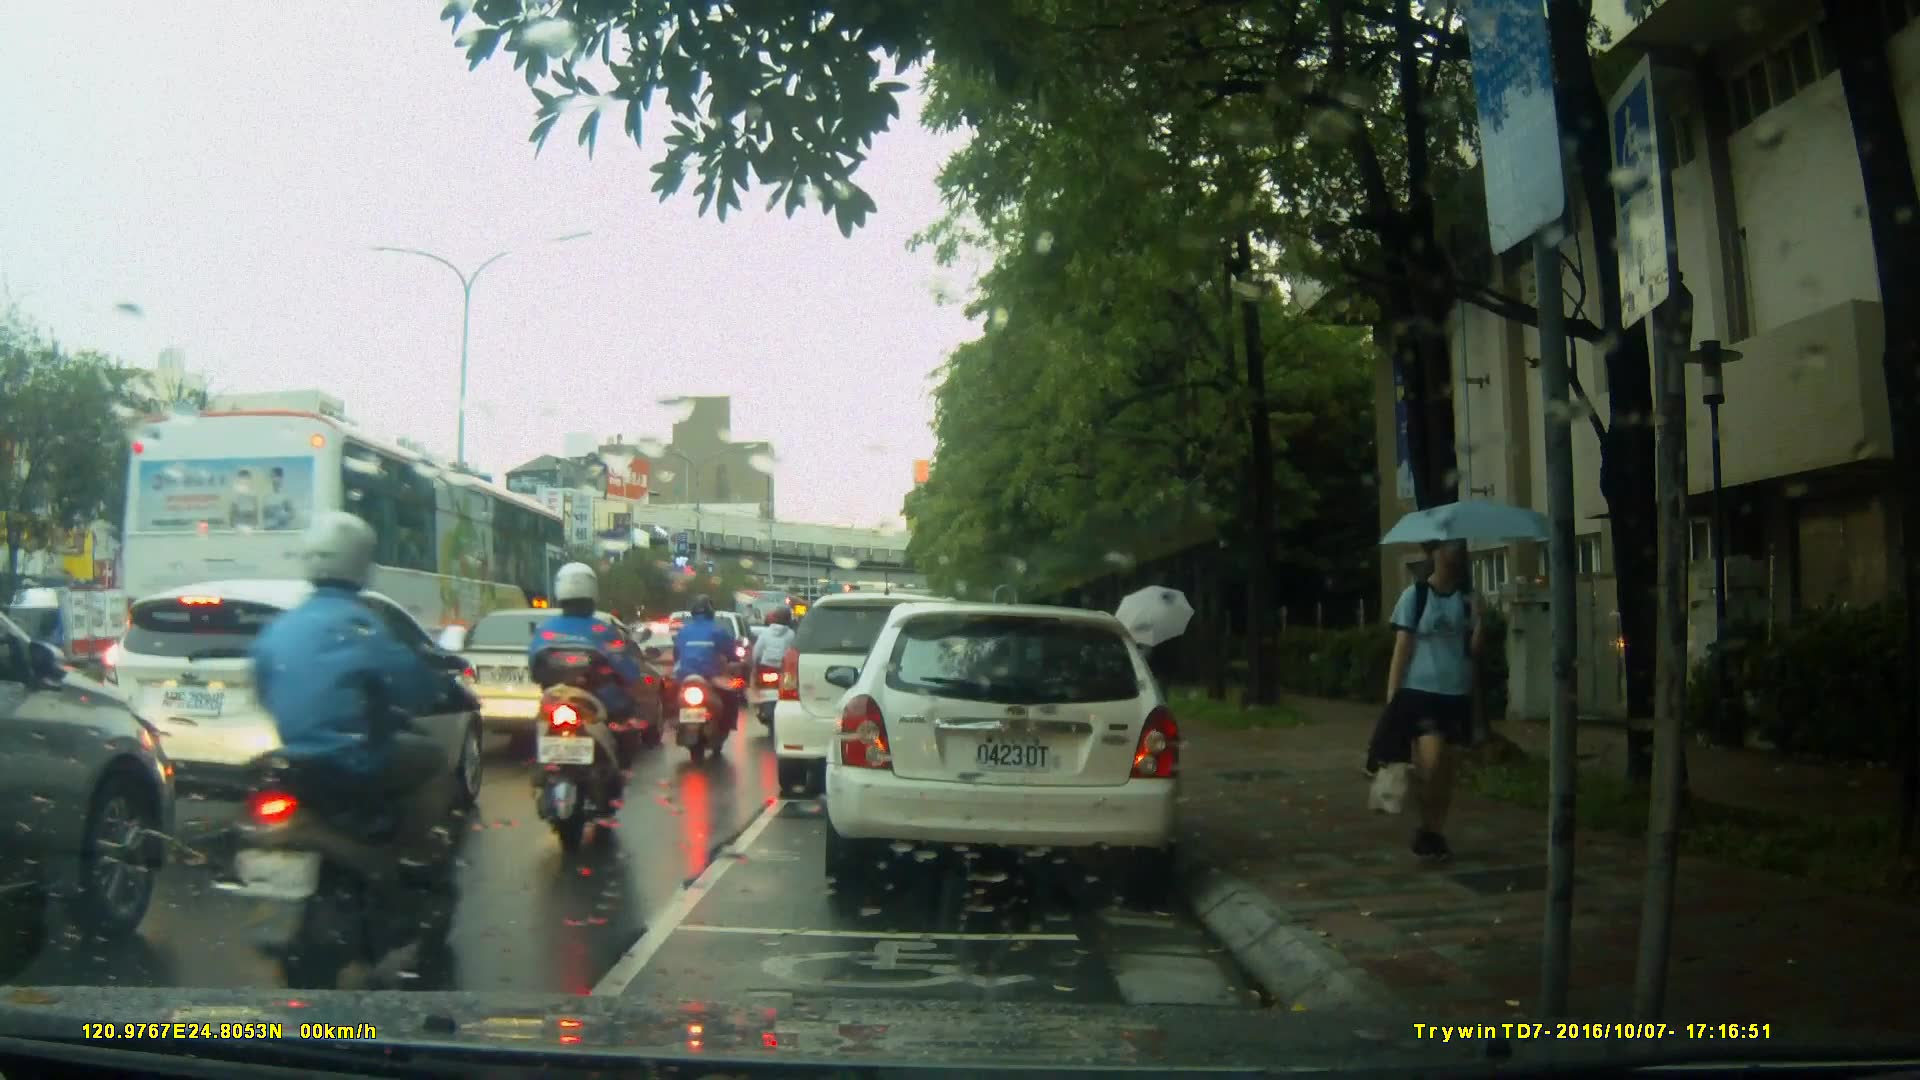pedestrian: (1360, 527, 1514, 874)
rider: (227, 510, 481, 1026), (525, 564, 656, 845), (665, 598, 739, 768), (759, 599, 812, 739)
vehicle: (117, 403, 577, 728), (835, 594, 1194, 898), (98, 576, 486, 846), (776, 590, 1026, 784), (424, 605, 667, 749), (1, 586, 155, 697), (609, 619, 718, 714)
